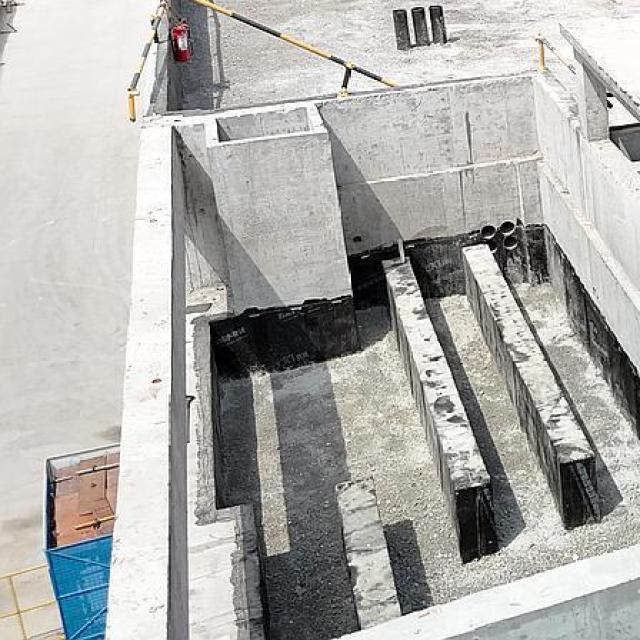edge_guardrail: (185, 0, 400, 94), (124, 14, 164, 123)
